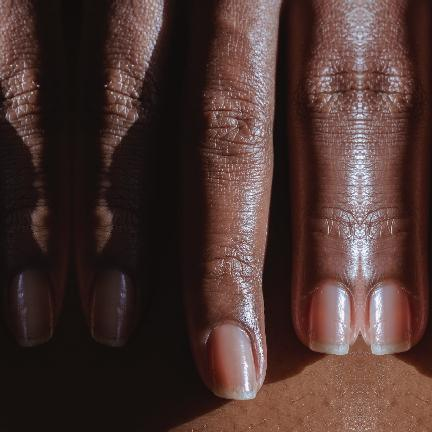Nail: (206, 324, 257, 400), (90, 269, 134, 347), (10, 269, 54, 347), (309, 284, 351, 355), (369, 284, 411, 355)
